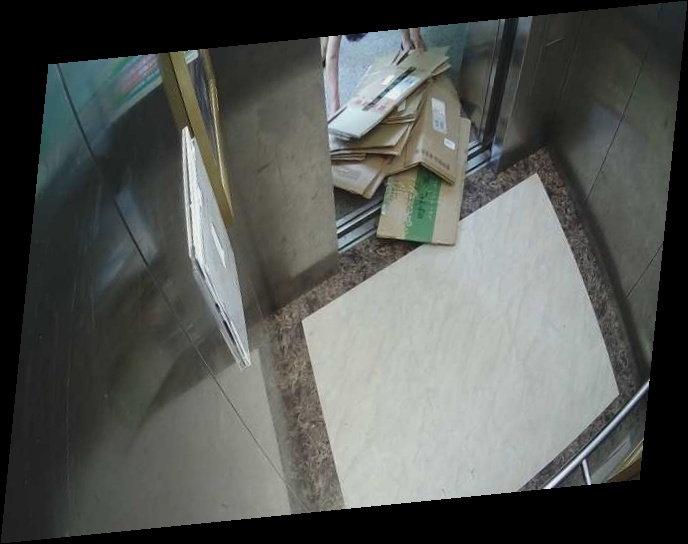box: (308, 48, 496, 255)
